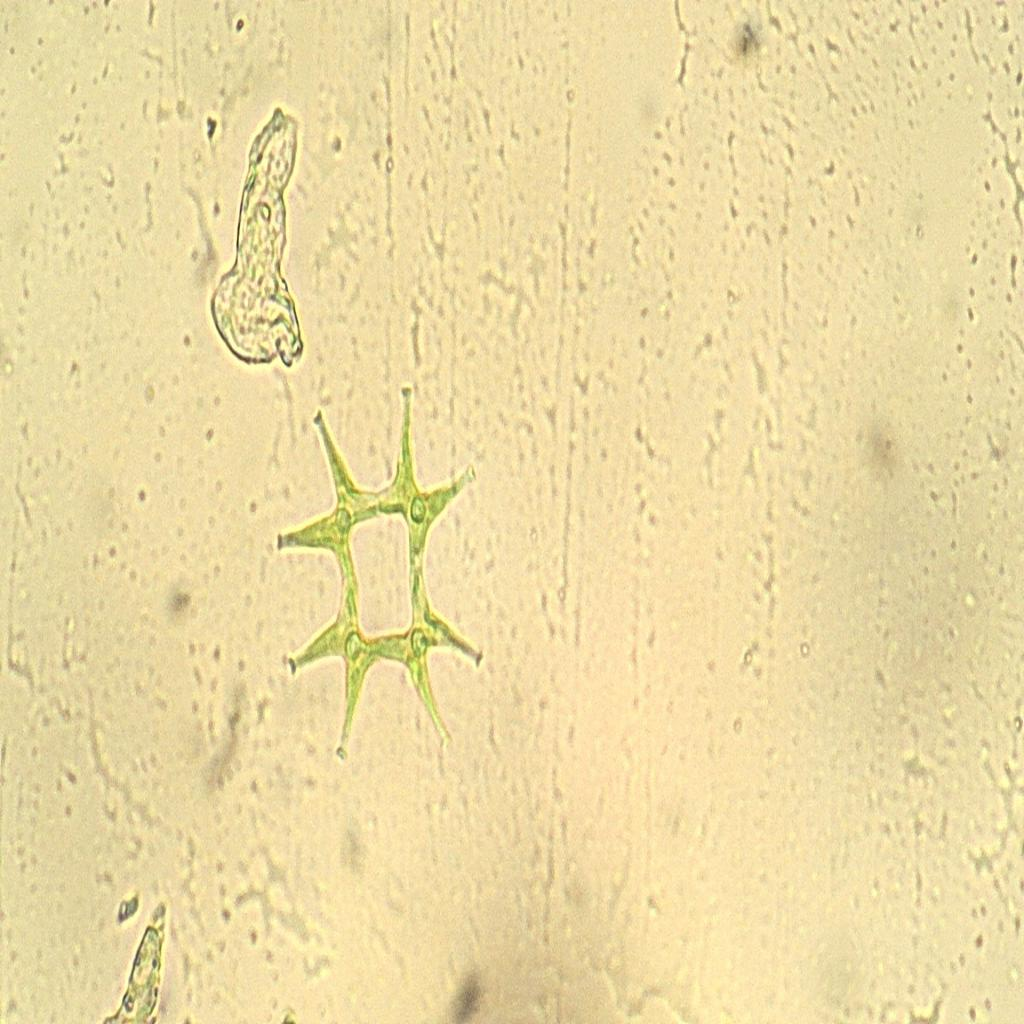Pediastrum_CO: (269, 371, 492, 792)
